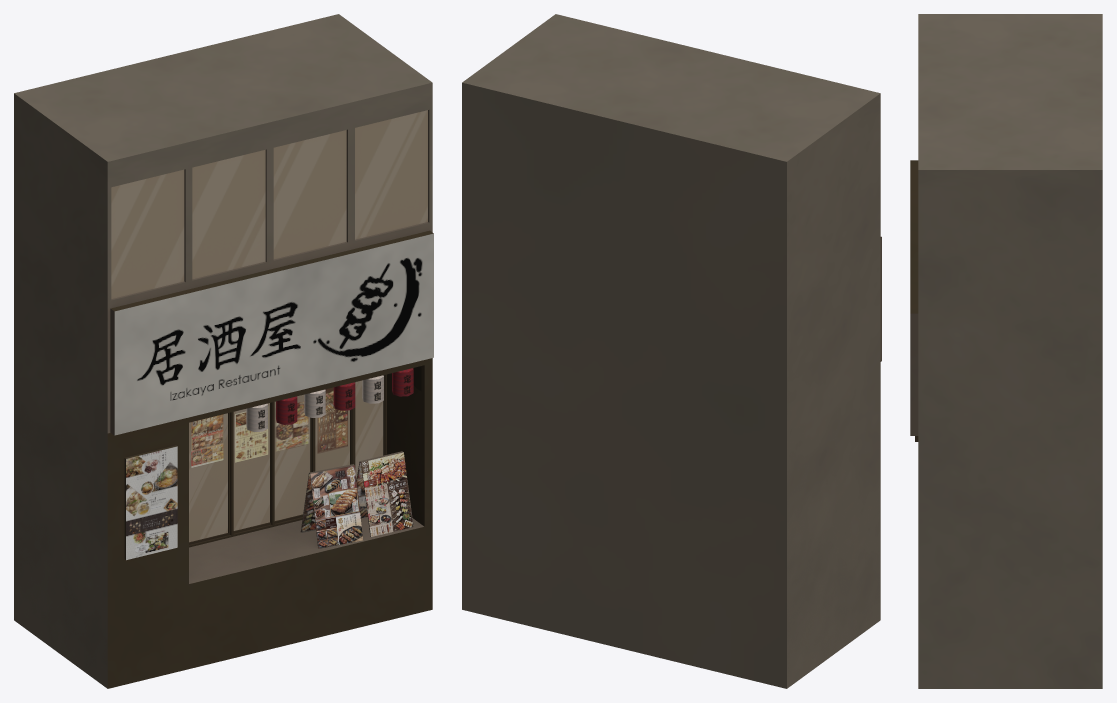
The model's file is shop01.dae.
3 views of the same model, side by side, from view 1: azimuth 30°, elevation 25°; view 2: azimuth 150°, elevation 25°; view 3: azimuth 270°, elevation 25° (orthographic).
Visible parts, largest first — view 1: shop01; view 2: shop01; view 3: shop01.
Part boxes in pixels (<box>): shop01: <box>14,14,433,688</box>; shop01: <box>462,14,881,688</box>; shop01: <box>910,14,1102,688</box>.
Bounding box in the file's own units: 4 × 6.2 × 2.09.
